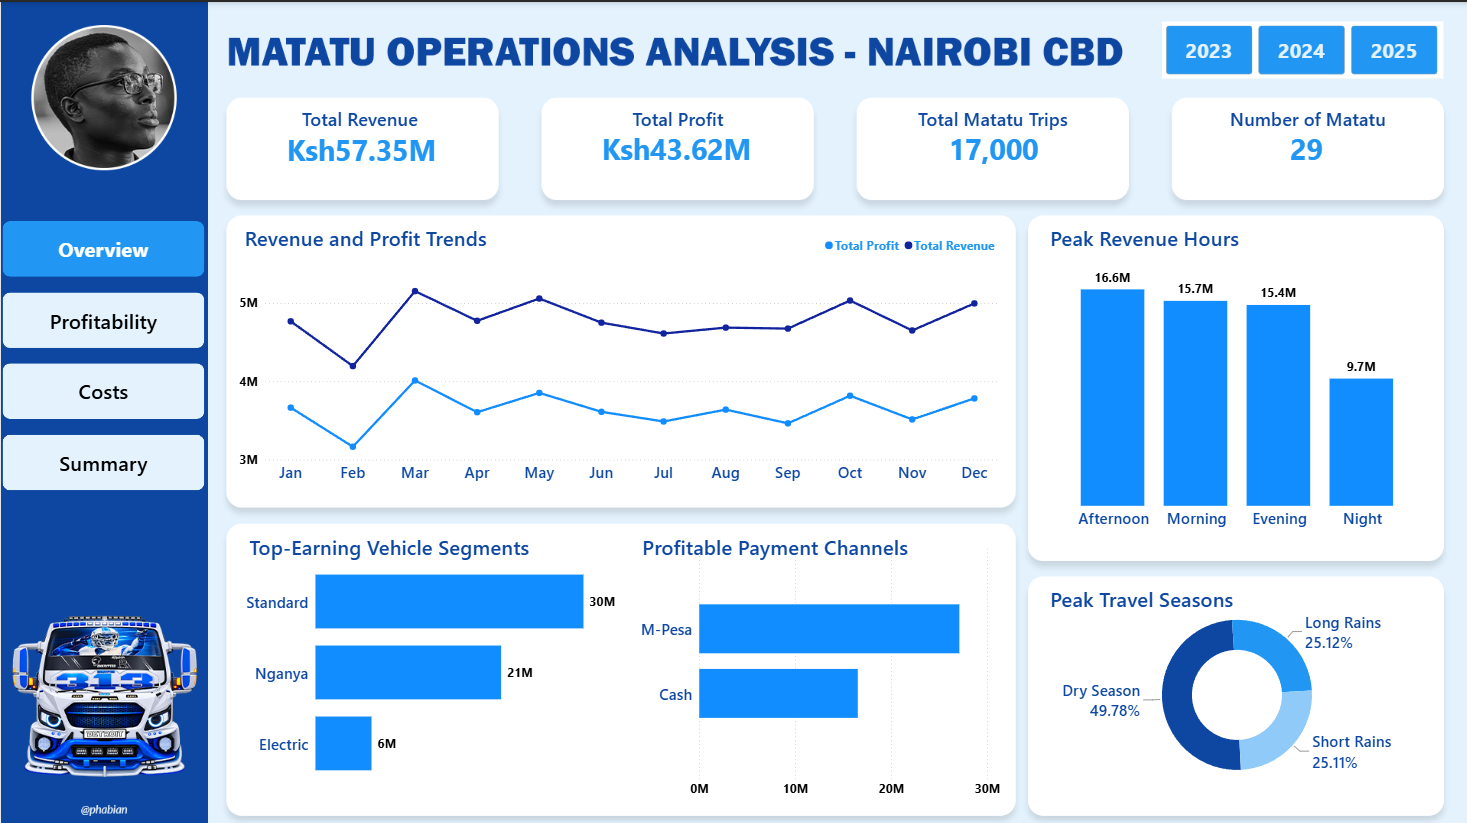

The page's visual inventory and layout, read from the dashboard file:
{"tool":"powerbi","page":{"name":"Overview","canvas":[1920,1080],"ordinal":0},"visuals":[{"type":"cardVisual","fields":{"Data":["public matatu_operation_dataset.Total Revenue"]},"box":[298,140,346,104],"z":0},{"type":"cardVisual","fields":{"Data":["public matatu_operation_dataset.Total Profit"]},"box":[708,138,351,105.3],"z":1000},{"type":"cardVisual","fields":{"Data":["public matatu_operation_dataset.Formatted Trips"]},"box":[1124,138,348.9,105.3],"z":2000},{"type":"cardVisual","fields":{"Data":["public matatu_operation_dataset.Total Matatu"]},"box":[1532,138,351,105.3],"z":3000},{"type":"textbox","box":[320,132.1,299.4,59.9],"z":4000},{"type":"textbox","box":[735,132.1,299.4,59.9],"z":5000},{"type":"textbox","box":[1147.9,132.1,299.4,59.9],"z":6000},{"type":"textbox","box":[1558.7,132.1,299.4,59.9],"z":7000},{"type":"lineChart","fields":{"Category":["Date.Month_Name"],"Y":["public matatu_operation_dataset.Total Profit","public matatu_operation_dataset.Total Revenue"]},"box":[306.6,295.3,1003.9,343],"z":8000},{"type":"clusteredColumnChart","fields":{"Category":["public matatu_operation_dataset.time_of_day"],"Y":["public matatu_operation_dataset.Total Revenue"]},"box":[1362.8,331.6,508.8,368],"z":9000},{"type":"donutChart","fields":{"Category":["public matatu_operation_dataset.season"],"Y":["public matatu_operation_dataset.Total Trips"]},"box":[1367.3,772.2,497.4,265.7],"z":10000},{"type":"textbox","box":[313.4,283.9,463.3,59.1],"z":11000},{"type":"textbox","box":[1367.3,283.9,463.3,59.1],"z":12000},{"type":"textbox","box":[1367.3,756.3,463.3,59.1],"z":13000},{"type":"clusteredBarChart","fields":{"Y":["public matatu_operation_dataset.Total Revenue"],"Category":["public matatu_operation_dataset.vehicle_type"]},"box":[313.4,697.3,508.8,352.1],"z":14000},{"type":"clusteredBarChart","fields":{"Y":["public matatu_operation_dataset.Total Profit"],"Category":["public matatu_operation_dataset.payment_method"]},"box":[829,697.3,481.5,352.1],"z":15000},{"type":"textbox","box":[833.6,688.2,463.3,59.1],"z":16000},{"type":"textbox","box":[320.3,688.2,463.3,59.1],"z":17000},{"type":"advancedSlicerVisual","fields":{"Values":["Date.Year"]},"box":[1517.2,25,368,75],"z":18000},{"type":"pageNavigator","box":[2.2,286.1,264.1,352.2],"z":19000}]}

Visuals, with their boxes in screenshot pixels (x1, y1, x2, y2), scaled from the page's 1920x1080 canvas onto the 1467x823 screenshot:
cardVisual - public matatu_operation_dataset.Total Revenue: Rect(228, 107, 492, 186)
cardVisual - public matatu_operation_dataset.Total Profit: Rect(541, 105, 809, 185)
cardVisual - public matatu_operation_dataset.Formatted Trips: Rect(859, 105, 1125, 185)
cardVisual - public matatu_operation_dataset.Total Matatu: Rect(1171, 105, 1439, 185)
textbox: Rect(244, 101, 473, 146)
textbox: Rect(562, 101, 790, 146)
textbox: Rect(877, 101, 1106, 146)
textbox: Rect(1191, 101, 1420, 146)
lineChart - Date.Month_Name x public matatu_operation_dataset.Total Profit: Rect(234, 225, 1001, 486)
clusteredColumnChart - public matatu_operation_dataset.time_of_day x public matatu_operation_dataset.Total Revenue: Rect(1041, 253, 1430, 533)
donutChart - public matatu_operation_dataset.season x public matatu_operation_dataset.Total Trips: Rect(1045, 588, 1425, 791)
textbox: Rect(239, 216, 593, 261)
textbox: Rect(1045, 216, 1399, 261)
textbox: Rect(1045, 576, 1399, 621)
clusteredBarChart - public matatu_operation_dataset.Total Revenue x public matatu_operation_dataset.vehicle_type: Rect(239, 531, 628, 800)
clusteredBarChart - public matatu_operation_dataset.Total Profit x public matatu_operation_dataset.payment_method: Rect(633, 531, 1001, 800)
textbox: Rect(637, 524, 991, 569)
textbox: Rect(245, 524, 599, 569)
advancedSlicerVisual - Date.Year: Rect(1159, 19, 1440, 76)
pageNavigator: Rect(2, 218, 203, 486)
